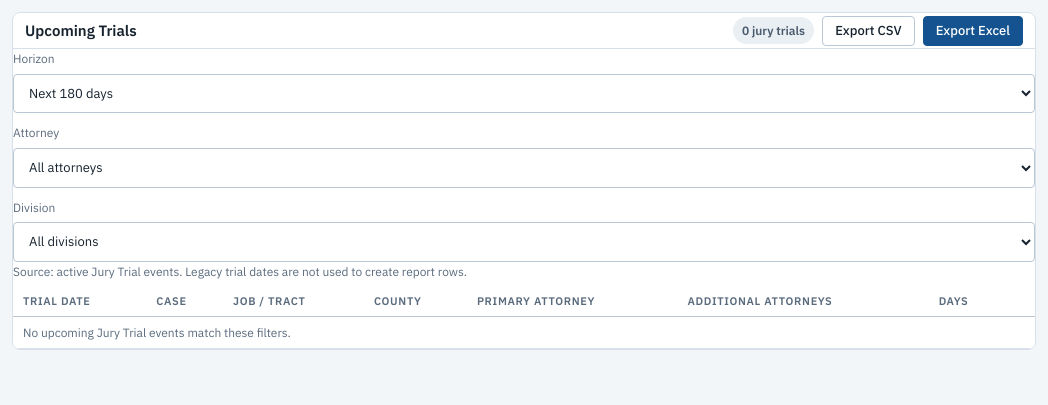
Test: UpcomingTrialsReport › renders Jury Trial events, including an event-only case, and filters by attorney
Select "All upcoming" in the dropdown labelled "Horizon". click: (524, 93)
box: left=13, top=74, right=1035, bottom=113
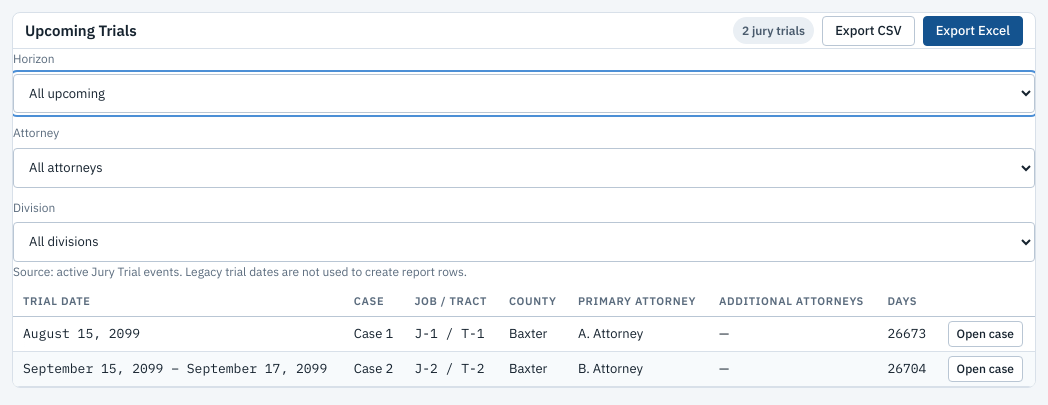
Now the text "2 jury trials" is shown, box left=733, top=17, right=814, bottom=44
Now the text "Case 1" is shown, box left=344, top=317, right=404, bottom=352
Now the text "Case 2" is shown, box left=344, top=352, right=404, bottom=387
Select "B. Attorney" in the dropdown labelled "Attorney". click: (524, 168)
box: left=13, top=148, right=1035, bottom=188
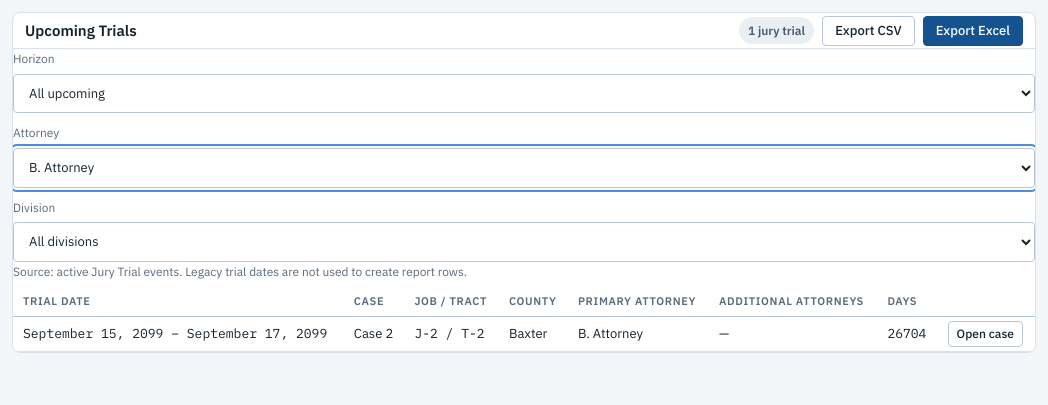
Now the text "Case 2" is shown, box left=344, top=317, right=404, bottom=352
Now the text "Case 1" is gone
